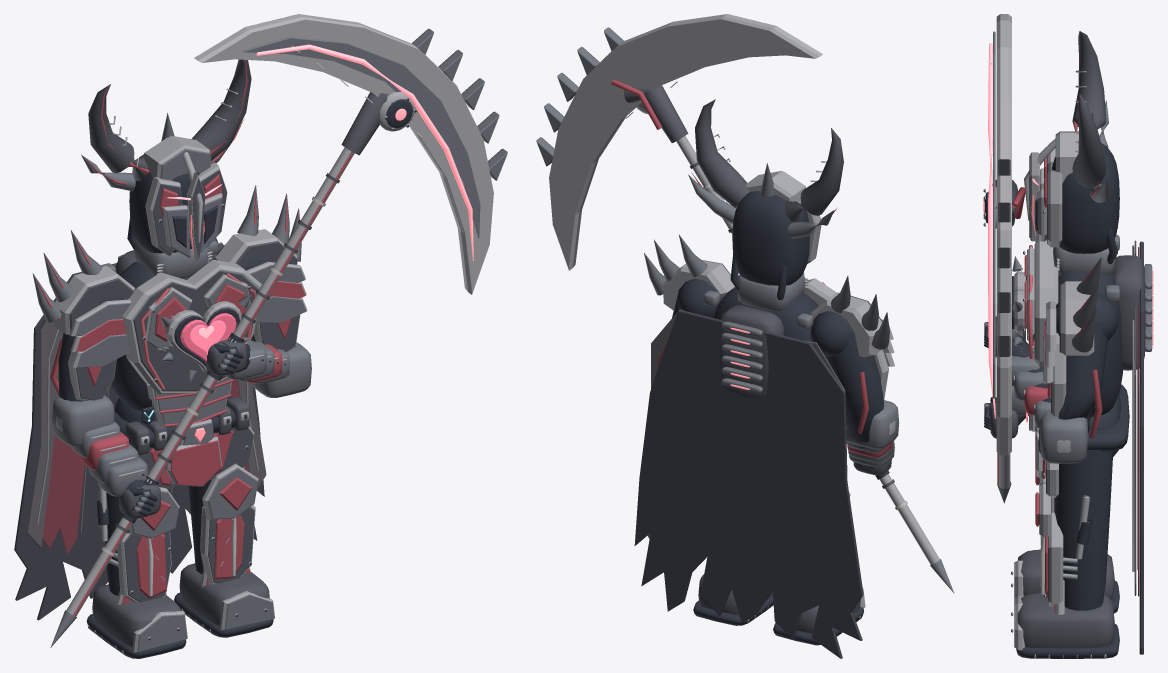
The model's file is pontifex_maximus.glb.
3 views of the same model, side by side, from view 1: azimuth 30°, elevation 25°; view 2: azimuth 150°, elevation 25°; view 3: azimuth 270°, elevation 25° (orthographic). The views are drawn at different scales.
Visible parts, largest first — view 1: Crescent blade forged edge, Torn ceremonial cloak, Crescent blade dark steel inset, Polearm forged haft, Cathedral breastplate armour face, Torn crimson cloak lining -1, Cloak heavy outer fold -1, Cathedral breastplate steel bevel, L boot foundation, R boot foundation, Grand swept helmet horn 1, Grand swept helmet horn -1 (+46 smaller); view 2: Torn ceremonial cloak, Crescent blade forged edge, Helmet carbon skull, L arm flex undersuit, Spinal reactor housing, Grand swept helmet horn 1, Grand swept helmet horn -1, Polearm forged haft, Pressure undersuit torso, Armoured gorget, R pauldron crest steel bevel, L pauldron crest steel bevel (+8 smaller); view 3: R articulated leg, Crescent blade forged edge, R boot foundation, Helmet carbon skull, R arm flex undersuit, Spinal reactor housing, Pressure undersuit torso, R elbow shield, Cathedral breastplate steel bevel, Torn ceremonial cloak, Grand swept helmet horn 1, Grand swept helmet horn -1 (+47 smaller).
Part boxes in pixels (bbox=[...]): Crescent blade forged edge: bbox=[194, 14, 493, 294]; Torn ceremonial cloak: bbox=[14, 238, 264, 620]; Crescent blade dark steel inset: bbox=[240, 37, 480, 238]; Polearm forged haft: bbox=[66, 147, 354, 616]; Cathedral breastplate armour face: bbox=[133, 270, 258, 391]; Torn crimson cloak lining -1: bbox=[42, 435, 84, 554]; Cloak heavy outer fold -1: bbox=[27, 321, 63, 547]; Cathedral breastplate steel bevel: bbox=[122, 259, 261, 394]; L boot foundation: bbox=[92, 584, 181, 647]; R boot foundation: bbox=[179, 563, 269, 625]; Grand swept helmet horn 1: bbox=[191, 59, 251, 160]; Grand swept helmet horn -1: bbox=[88, 84, 147, 181]; Torn ceremonial cloak: bbox=[634, 309, 863, 658]; Crescent blade forged edge: bbox=[549, 14, 822, 270]; Helmet carbon skull: bbox=[732, 191, 809, 285]; L arm flex undersuit: bbox=[825, 331, 883, 468]; Spinal reactor housing: bbox=[720, 305, 783, 398]; Grand swept helmet horn 1: bbox=[695, 99, 749, 207]; Grand swept helmet horn -1: bbox=[784, 128, 843, 222]; Polearm forged haft: bbox=[676, 136, 939, 564]; Pressure undersuit torso: bbox=[714, 288, 826, 358]; Armoured gorget: bbox=[737, 272, 805, 311]; R pauldron crest steel bevel: bbox=[663, 260, 735, 310]; L pauldron crest steel bevel: bbox=[811, 292, 882, 357]; R articulated leg: bbox=[1054, 450, 1112, 610]; Crescent blade forged edge: bbox=[996, 14, 1011, 455]; R boot foundation: bbox=[1017, 593, 1114, 648]; Helmet carbon skull: bbox=[1051, 143, 1119, 253]; R arm flex undersuit: bbox=[1012, 322, 1108, 434]; Spinal reactor housing: bbox=[1114, 255, 1145, 370]; Pressure undersuit torso: bbox=[1058, 271, 1122, 416]; R elbow shield: bbox=[1039, 412, 1088, 463]; Cathedral breastplate steel bevel: bbox=[1035, 240, 1058, 368]; Torn ceremonial cloak: bbox=[1139, 241, 1143, 654]; Grand swept helmet horn 1: bbox=[1072, 94, 1106, 187]; Grand swept helmet horn -1: bbox=[1072, 31, 1106, 143].
Size of the model in its own units: 4.38 by 5.65 by 1.4.
